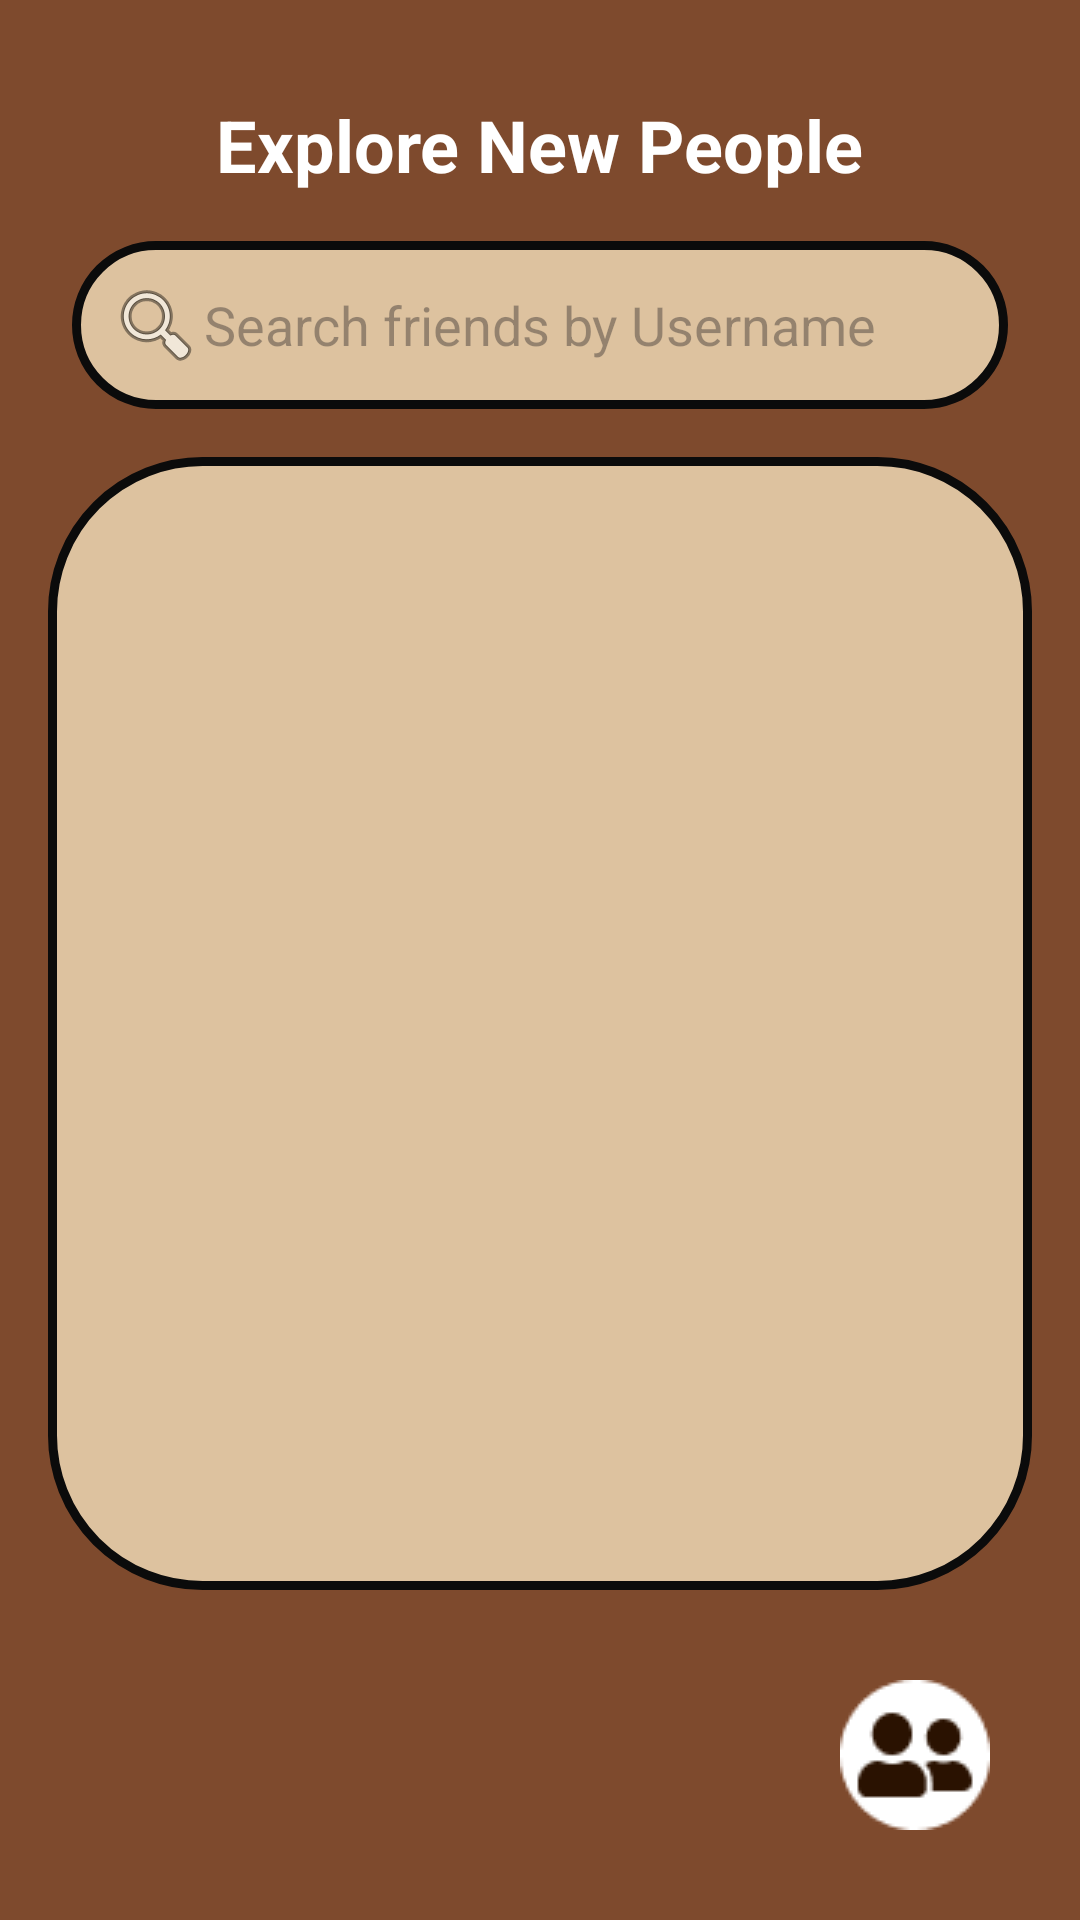

Where icons sit on this 1080 x 1920 app screen, as (x1=x1, y1=y1, x2=x2, y2=y2):
Friend: (x1=840, y1=1680, x2=990, y2=1830)
